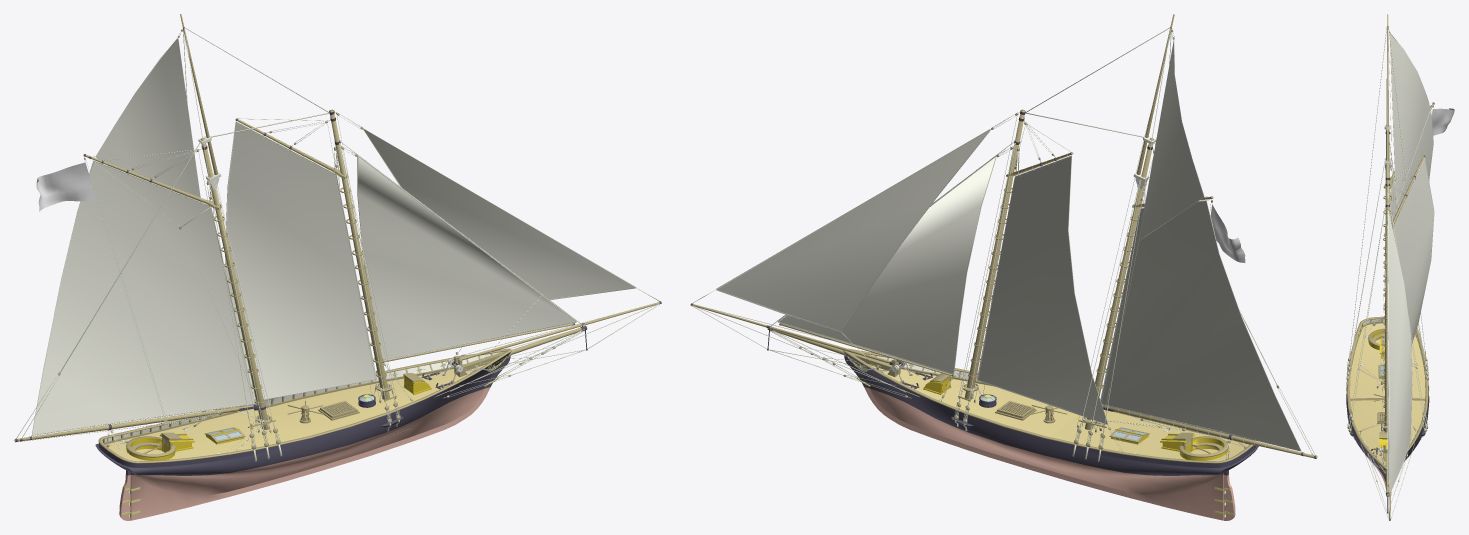
Rendered from Sketchfab_2015_06_14_17_19_41.blend.fbx.
3 renders of one model, left to right at view 1: azimuth 30°, elevation 25°; view 2: azimuth 150°, elevation 25°; view 3: azimuth 270°, elevation 25°, orthographic. The views are drawn at different scales.
Visible parts, largest first — view 1: gdVoile, voileMisaine, coque, foc, foc.001, foc.002, misaine, drapeauUS, gdMat, beaupre, bome, bords (+1 smaller); view 2: gdVoile, coque, voileMisaine, foc.001, foc, foc.002, misaine, gdMat, beaupre, bome, fosse, drapeauUS; view 3: coque, foc.001, voileMisaine, foc.002, gdVoile, misaine, drapeauUS, antenne, hauban.008, corde.024, gdMat, fosse (+11 smaller).
Part boxes in pixels (x1,y1,x2,y2): gdVoile: (32,160,254,435); voileMisaine: (225,121,376,400); coque: (95,348,511,520); foc: (357,156,576,360); foc.001: (363,128,635,300); foc.002: (95,38,200,201); misaine: (329,110,389,399); drapeauUS: (36,162,96,211); gdMat: (200,138,269,429); beaupre: (454,302,659,373); bome: (14,405,253,441); bords: (103,364,463,444); gdVoile: (1100,200,1301,451); coque: (843,348,1258,520); voileMisaine: (977,155,1107,424); foc.001: (716,129,990,332); foc: (778,156,996,374); foc.002: (1139,40,1204,240); misaine: (964,110,1025,399); gdMat: (1085,138,1154,429); beaupre: (692,304,900,373); bome: (1102,405,1317,458); fosse: (1179,436,1228,460); drapeauUS: (1210,205,1245,262); coque: (1346,316,1429,489); foc.001: (1387,210,1412,493); voileMisaine: (1392,158,1434,345); foc.002: (1389,33,1430,206); gdVoile: (1390,111,1433,222); misaine: (1384,177,1389,432); drapeauUS: (1431,108,1454,135); antenne: (1386,14,1389,160); hauban.008: (1349,27,1386,357); corde.024: (1387,206,1387,492); gdMat: (1384,125,1389,389); fosse: (1368,328,1384,349).
Size of the model in its own units: 4897 by 3631 by 916.
